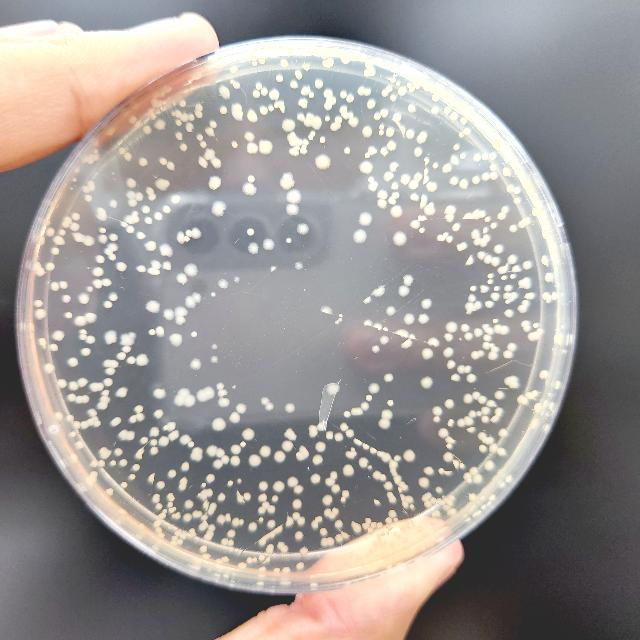colony: (286, 188, 302, 204), (315, 154, 331, 170), (212, 201, 226, 217), (393, 230, 407, 246), (146, 300, 160, 314), (282, 118, 296, 132), (358, 212, 372, 226), (353, 229, 367, 243), (232, 104, 244, 120), (218, 84, 230, 100), (185, 263, 198, 277), (244, 182, 256, 196), (209, 176, 221, 190), (160, 244, 172, 258), (260, 140, 272, 154), (280, 178, 294, 190), (143, 108, 157, 120), (287, 131, 299, 145), (359, 162, 373, 174), (390, 205, 402, 219), (372, 285, 386, 297), (242, 428, 254, 442), (196, 389, 208, 403), (320, 305, 336, 315), (392, 328, 408, 338), (506, 264, 522, 274), (326, 382, 339, 394), (286, 202, 298, 215), (212, 418, 225, 430), (282, 441, 296, 452), (65, 381, 79, 392), (105, 330, 116, 344), (176, 272, 188, 284), (170, 334, 182, 346), (190, 358, 202, 370), (263, 238, 275, 250), (144, 240, 156, 252), (155, 178, 167, 190), (204, 148, 216, 160), (246, 142, 258, 154), (246, 110, 258, 122), (154, 118, 166, 130), (84, 234, 96, 246), (423, 204, 435, 216), (445, 321, 457, 333), (421, 377, 433, 389), (403, 449, 415, 461), (312, 454, 324, 466), (273, 480, 285, 492), (284, 428, 296, 440), (249, 454, 261, 466), (184, 394, 196, 406), (137, 353, 149, 365), (85, 312, 97, 324), (34, 308, 46, 320), (312, 116, 322, 130), (504, 376, 518, 386), (216, 398, 230, 408), (177, 388, 191, 398), (136, 445, 146, 459), (120, 334, 134, 344), (186, 296, 197, 308), (163, 308, 174, 320), (104, 125, 116, 136), (417, 132, 428, 144), (402, 274, 413, 286), (398, 285, 409, 297), (427, 337, 439, 348), (422, 348, 433, 360), (368, 382, 380, 393), (274, 451, 286, 462), (203, 387, 214, 399), (175, 306, 188, 316), (52, 237, 66, 246), (401, 173, 412, 184), (248, 242, 258, 254), (150, 259, 162, 269), (198, 156, 208, 168), (210, 158, 222, 168), (269, 89, 279, 101), (276, 101, 286, 113), (72, 232, 84, 242), (116, 262, 128, 272), (362, 126, 372, 138), (445, 204, 457, 214), (404, 313, 414, 325), (401, 338, 413, 348), (482, 326, 494, 336), (498, 262, 508, 274), (477, 251, 489, 261), (470, 228, 480, 240), (518, 394, 528, 406), (378, 419, 390, 429), (344, 464, 354, 476), (322, 494, 332, 506), (260, 445, 270, 457), (230, 411, 240, 423), (174, 395, 184, 407), (180, 434, 192, 444), (158, 436, 170, 446), (100, 448, 112, 458), (115, 387, 127, 397), (154, 388, 166, 398), (44, 363, 56, 373), (74, 316, 86, 326), (53, 330, 65, 340), (146, 267, 160, 275), (420, 194, 428, 208), (285, 512, 293, 526), (298, 223, 308, 234), (427, 182, 438, 192), (377, 189, 388, 199), (418, 313, 429, 323), (381, 452, 392, 462), (419, 477, 429, 488), (338, 528, 349, 538), (78, 378, 89, 388), (459, 178, 468, 190), (524, 392, 536, 401), (237, 491, 245, 504), (39, 336, 47, 349), (285, 402, 295, 412), (176, 316, 186, 326), (134, 192, 144, 202), (125, 215, 135, 225), (245, 132, 255, 142), (205, 127, 215, 137), (142, 125, 152, 135), (192, 70, 202, 80), (301, 86, 311, 96), (348, 117, 358, 127), (367, 146, 377, 156), (386, 140, 396, 150), (408, 180, 418, 190), (389, 162, 399, 172), (368, 181, 378, 191), (384, 172, 394, 182), (442, 163, 452, 173), (398, 86, 408, 96), (386, 306, 396, 316), (422, 298, 432, 308), (443, 347, 453, 357), (506, 342, 516, 352), (466, 301, 476, 311), (522, 260, 532, 270), (507, 254, 517, 264), (494, 244, 504, 254), (490, 257, 500, 267), (494, 407, 504, 417), (498, 427, 508, 437), (497, 446, 507, 456), (484, 460, 494, 470), (472, 473, 482, 483), (443, 452, 453, 462), (438, 428, 448, 438), (432, 406, 442, 416), (481, 406, 491, 416), (464, 416, 474, 426), (382, 409, 392, 419), (421, 491, 431, 501), (316, 442, 326, 452), (310, 474, 320, 484), (334, 518, 344, 528), (292, 498, 302, 508), (288, 476, 298, 486), (298, 546, 308, 556), (273, 524, 283, 534), (230, 456, 240, 466), (207, 446, 217, 456), (231, 444, 241, 454), (218, 388, 228, 398), (154, 409, 164, 419), (117, 430, 127, 440), (136, 412, 146, 422), (111, 416, 121, 426), (68, 357, 78, 367), (109, 291, 119, 301), (79, 294, 89, 304), (61, 294, 71, 304), (50, 281, 60, 291), (93, 267, 103, 277), (359, 457, 368, 468), (220, 278, 228, 290), (176, 232, 184, 244), (193, 292, 201, 304), (288, 148, 300, 156), (451, 154, 459, 166), (462, 212, 474, 220), (466, 254, 474, 266), (444, 436, 456, 444), (34, 267, 46, 275), (413, 172, 422, 182), (378, 198, 387, 208), (446, 359, 456, 368), (383, 373, 393, 382), (466, 373, 476, 382), (499, 325, 508, 335), (463, 394, 472, 404), (483, 254, 492, 264), (538, 369, 548, 378), (469, 466, 478, 476), (444, 399, 454, 408), (296, 452, 306, 461), (184, 499, 193, 509), (207, 474, 216, 484), (213, 459, 223, 468), (237, 404, 246, 414), (108, 243, 119, 251), (150, 427, 158, 438), (84, 477, 92, 488), (399, 126, 406, 138), (203, 497, 209, 511), (449, 177, 458, 186), (217, 448, 226, 457), (77, 482, 86, 491), (264, 402, 274, 410), (211, 354, 219, 364), (156, 326, 164, 336), (192, 228, 200, 238), (162, 262, 172, 270), (137, 231, 147, 239), (127, 190, 135, 200), (128, 199, 138, 207), (128, 178, 136, 188), (138, 158, 148, 166), (283, 172, 293, 180), (70, 223, 80, 231), (296, 113, 306, 121), (279, 59, 289, 67), (326, 97, 336, 105), (315, 80, 323, 90), (386, 128, 394, 138), (380, 147, 388, 157), (414, 147, 422, 157), (410, 220, 420, 228), (410, 193, 420, 201), (503, 167, 511, 177), (492, 140, 500, 150), (364, 61, 374, 69), (362, 296, 372, 304), (372, 322, 382, 330), (444, 333, 454, 341), (464, 332, 474, 340), (457, 364, 465, 374), (471, 350, 479, 360), (488, 352, 498, 360), (493, 324, 501, 334), (474, 328, 482, 338), (482, 334, 492, 342), (494, 391, 504, 399), (486, 400, 496, 408), (484, 300, 494, 308), (504, 310, 514, 318), (522, 217, 532, 225), (532, 208, 542, 216), (516, 279, 524, 289), (524, 292, 534, 300), (545, 273, 553, 283), (534, 403, 542, 413), (530, 418, 538, 428), (486, 436, 494, 446), (479, 444, 487, 454), (490, 443, 498, 453), (468, 492, 476, 502), (452, 459, 460, 469), (466, 426, 476, 434), (340, 422, 348, 432), (334, 433, 344, 441), (424, 466, 434, 474), (393, 474, 401, 484), (389, 458, 397, 468), (372, 470, 380, 480), (448, 508, 458, 516), (326, 478, 336, 486), (317, 422, 325, 432), (352, 525, 362, 533), (294, 485, 304, 493), (260, 481, 268, 491), (326, 562, 336, 570), (217, 514, 225, 524), (192, 510, 202, 518), (218, 492, 226, 502), (182, 461, 190, 471), (200, 490, 208, 500), (220, 456, 230, 464), (168, 421, 176, 431), (148, 474, 156, 484), (73, 420, 81, 430), (134, 405, 144, 413), (98, 402, 108, 410), (54, 412, 62, 422), (58, 379, 66, 389), (90, 382, 98, 392), (81, 348, 91, 356), (34, 299, 44, 307), (60, 280, 68, 290), (34, 260, 42, 270), (93, 280, 103, 288), (103, 278, 113, 286), (89, 474, 97, 484), (117, 507, 127, 515), (323, 90, 332, 98), (393, 113, 402, 121), (452, 223, 461, 231), (474, 208, 480, 220), (379, 336, 388, 344), (452, 373, 461, 381), (503, 350, 512, 358), (478, 396, 487, 404), (542, 255, 548, 267), (478, 432, 487, 440), (353, 438, 362, 446), (383, 481, 392, 489), (332, 484, 341, 492), (105, 488, 113, 497), (115, 448, 124, 456), (76, 441, 85, 449), (70, 453, 78, 462), (81, 419, 89, 428), (188, 564, 200, 570), (97, 208, 107, 215), (298, 98, 308, 105), (90, 459, 100, 466), (95, 214, 106, 220), (261, 396, 269, 404), (295, 262, 303, 270), (154, 212, 162, 220), (172, 195, 180, 203), (145, 217, 153, 225), (142, 205, 150, 213), (146, 186, 154, 194), (167, 162, 175, 170), (126, 225, 134, 233), (110, 200, 118, 208), (82, 185, 90, 193), (124, 152, 132, 160), (219, 106, 227, 114), (195, 110, 203, 118), (260, 106, 268, 114), (252, 90, 260, 98), (260, 88, 268, 96), (134, 120, 142, 128), (174, 110, 182, 118), (180, 113, 188, 121), (186, 124, 194, 132), (92, 153, 100, 161), (110, 233, 118, 241), (99, 235, 107, 243), (72, 213, 80, 221), (96, 255, 104, 263), (64, 216, 72, 224), (306, 112, 314, 120), (304, 119, 312, 127), (330, 123, 338, 131), (334, 116, 342, 124), (346, 94, 354, 102), (367, 100, 375, 108), (380, 110, 388, 118), (340, 112, 348, 120), (406, 130, 414, 138), (391, 182, 399, 190), (388, 196, 396, 204), (450, 112, 458, 120), (408, 104, 416, 112), (472, 176, 480, 184), (490, 172, 498, 180), (473, 154, 481, 162), (460, 242, 468, 250), (498, 212, 506, 220), (512, 186, 520, 194), (506, 185, 514, 193), (341, 56, 349, 64), (372, 345, 380, 353), (461, 324, 469, 332), (464, 365, 472, 373), (482, 342, 490, 350), (472, 392, 480, 400), (521, 320, 529, 328), (474, 302, 482, 310), (468, 294, 476, 302), (481, 285, 489, 293), (491, 293, 499, 301), (504, 284, 512, 292), (518, 305, 526, 313), (482, 234, 490, 242), (473, 237, 481, 245), (518, 220, 526, 228), (491, 414, 499, 422), (457, 419, 465, 427), (468, 410, 476, 418), (361, 402, 369, 410), (346, 429, 354, 437), (369, 446, 377, 454), (389, 510, 397, 518), (424, 500, 432, 508), (341, 490, 349, 498), (346, 451, 354, 459), (326, 431, 334, 439), (309, 430, 317, 438), (362, 522, 370, 530), (335, 535, 343, 543), (319, 527, 327, 535), (320, 538, 328, 546), (292, 512, 300, 520), (295, 531, 303, 539), (259, 493, 267, 501), (262, 502, 270, 510), (258, 506, 266, 514), (268, 520, 276, 528), (432, 524, 440, 532), (199, 544, 207, 552), (227, 529, 235, 537), (249, 522, 257, 530), (232, 518, 240, 526), (201, 512, 209, 520), (184, 513, 192, 521), (262, 556, 270, 564), (175, 528, 183, 536), (157, 481, 165, 489), (168, 469, 176, 477), (190, 452, 198, 460), (196, 455, 204, 463), (150, 447, 158, 455), (140, 436, 148, 444), (180, 476, 188, 484), (120, 459, 128, 467), (98, 460, 106, 468), (93, 420, 101, 428), (99, 446, 107, 454), (82, 395, 90, 403), (68, 394, 76, 402), (66, 414, 74, 422), (104, 378, 112, 386), (106, 367, 114, 375), (128, 356, 136, 364), (111, 360, 119, 368), (103, 359, 111, 367), (118, 352, 126, 360), (87, 336, 95, 344), (50, 344, 58, 352), (104, 301, 112, 309), (46, 262, 54, 270), (46, 228, 54, 236), (444, 106, 451, 115), (363, 319, 372, 326), (136, 266, 146, 272), (81, 154, 87, 164), (358, 87, 364, 97), (522, 180, 528, 190), (320, 53, 330, 59), (328, 57, 334, 67), (542, 230, 548, 240), (528, 332, 534, 342), (542, 398, 548, 408), (357, 406, 363, 416), (404, 496, 414, 502), (442, 504, 452, 510), (328, 536, 334, 546), (201, 553, 211, 559), (225, 512, 231, 522), (192, 448, 202, 454), (100, 396, 110, 402), (122, 346, 132, 352), (28, 322, 34, 332), (233, 276, 240, 284), (248, 228, 255, 236), (248, 175, 255, 183), (163, 205, 170, 213), (149, 193, 157, 200), (159, 158, 167, 165), (132, 215, 140, 222), (210, 120, 217, 128), (180, 100, 187, 108), (175, 132, 182, 140), (255, 82, 262, 90), (165, 86, 172, 94), (339, 91, 346, 99), (374, 112, 381, 120), (489, 152, 496, 160), (479, 210, 486, 218), (432, 95, 440, 102), (479, 239, 486, 247), (509, 224, 516, 232), (558, 332, 562, 346), (464, 472, 471, 480), (344, 410, 351, 418), (362, 444, 370, 451), (324, 508, 331, 516), (243, 492, 250, 500), (179, 484, 187, 491), (132, 464, 140, 471), (105, 248, 114, 254), (418, 215, 427, 221), (443, 470, 452, 476), (509, 382, 518, 388), (448, 494, 457, 500), (128, 432, 134, 441), (63, 458, 69, 467), (108, 253, 115, 260), (52, 248, 59, 255), (150, 328, 156, 336), (122, 220, 128, 228), (86, 194, 92, 202), (164, 180, 170, 188), (180, 144, 188, 150), (232, 140, 238, 148), (195, 104, 203, 110), (189, 114, 195, 122), (230, 66, 238, 72), (130, 116, 136, 124), (74, 165, 80, 173), (100, 226, 106, 234), (62, 222, 70, 228), (300, 148, 308, 154), (290, 82, 298, 88), (304, 64, 310, 72), (258, 58, 266, 64), (250, 55, 258, 61), (153, 92, 161, 98), (334, 123, 342, 129), (324, 104, 332, 110), (339, 107, 347, 113), (344, 146, 350, 154), (423, 176, 429, 184), (392, 192, 400, 198), (464, 128, 470, 136), (432, 107, 438, 115), (482, 173, 488, 181), (490, 164, 496, 172), (437, 235, 445, 241), (456, 244, 462, 252), (502, 205, 508, 213), (412, 83, 420, 89), (370, 68, 376, 76), (364, 69, 370, 77), (482, 226, 488, 234), (409, 333, 417, 339), (478, 349, 484, 357), (491, 346, 499, 352), (522, 326, 530, 332), (522, 300, 530, 306), (522, 277, 530, 283), (524, 282, 532, 288), (542, 292, 548, 300), (531, 390, 537, 398), (482, 436, 488, 444), (432, 416, 440, 422), (481, 416, 489, 422), (351, 408, 357, 416), (388, 496, 396, 502), (402, 500, 408, 508), (434, 510, 440, 518), (446, 499, 454, 505), (487, 494, 495, 500), (464, 516, 472, 522), (505, 474, 511, 482), (330, 472, 338, 478), (310, 424, 316, 432), (332, 506, 338, 514), (328, 512, 336, 518), (351, 520, 359, 526), (312, 520, 318, 528), (297, 518, 305, 524), (272, 494, 278, 502), (267, 506, 275, 512), (277, 542, 285, 548), (265, 548, 273, 554), (296, 562, 304, 568), (282, 567, 290, 573), (404, 521, 410, 529), (346, 552, 354, 558), (355, 554, 363, 560), (238, 562, 246, 568), (222, 556, 230, 562), (215, 558, 223, 564), (220, 538, 228, 544), (269, 530, 275, 538), (258, 540, 266, 546), (208, 524, 216, 530), (206, 530, 214, 536), (204, 534, 212, 540), (158, 512, 166, 518), (203, 519, 209, 527), (258, 566, 266, 572), (170, 540, 178, 546), (217, 383, 225, 389), (169, 433, 175, 441), (173, 430, 179, 438), (210, 502, 218, 508), (158, 532, 166, 538), (156, 526, 162, 534), (154, 520, 160, 528), (152, 545, 160, 551), (88, 418, 94, 426), (92, 415, 100, 421), (130, 415, 136, 423), (91, 410, 99, 416), (102, 390, 110, 396), (76, 395, 82, 403), (98, 382, 104, 390), (80, 334, 88, 340), (128, 332, 136, 338), (40, 236, 46, 244), (135, 534, 143, 540), (116, 518, 122, 526), (186, 230, 192, 237), (88, 180, 94, 187), (118, 148, 125, 154), (233, 82, 240, 88), (365, 88, 371, 95), (446, 235, 452, 242), (322, 61, 328, 68), (504, 293, 511, 299), (394, 455, 401, 461), (374, 498, 381, 504), (400, 494, 406, 501), (228, 540, 235, 546), (200, 524, 207, 530), (445, 214, 455, 218), (554, 333, 558, 343), (280, 581, 290, 585), (271, 266, 277, 272), (212, 344, 218, 350), (286, 237, 292, 243), (184, 236, 190, 242), (132, 210, 138, 216), (89, 186, 95, 192), (197, 134, 203, 140), (176, 120, 182, 126), (268, 105, 274, 111), (276, 76, 282, 82), (87, 158, 93, 164), (88, 153, 94, 159), (60, 230, 66, 236), (301, 104, 307, 110), (295, 70, 301, 76), (152, 102, 158, 108), (303, 138, 309, 144), (319, 137, 325, 143), (324, 116, 330, 122), (378, 130, 384, 136), (348, 113, 354, 119), (364, 152, 370, 158), (432, 163, 438, 169), (460, 153, 466, 159), (453, 144, 459, 150), (458, 132, 464, 138), (460, 118, 466, 124), (482, 154, 488, 160), (443, 232, 449, 238), (484, 216, 490, 222), (490, 223, 496, 229), (514, 198, 520, 204), (423, 86, 429, 92), (409, 86, 415, 92), (390, 95, 396, 101), (386, 86, 392, 92), (382, 90, 388, 96), (388, 78, 397, 82), (408, 76, 414, 82), (366, 395, 372, 401), (387, 400, 393, 406), (470, 286, 476, 292), (512, 292, 518, 298), (546, 296, 552, 302), (537, 328, 543, 334), (466, 478, 472, 484), (438, 468, 444, 474), (446, 443, 452, 449), (448, 418, 454, 424), (476, 410, 482, 416), (436, 487, 442, 493), (402, 484, 408, 490), (390, 468, 396, 474), (380, 474, 386, 480), (386, 518, 392, 524), (430, 497, 436, 503), (436, 498, 442, 504), (440, 500, 446, 506), (476, 510, 482, 516), (472, 511, 478, 517), (352, 450, 358, 456), (377, 522, 383, 528), (371, 522, 377, 528), (365, 517, 371, 523), (368, 527, 374, 533), (282, 546, 288, 552), (300, 446, 306, 452), (274, 567, 280, 573), (392, 530, 398, 536), (398, 525, 404, 531), (417, 526, 423, 532), (422, 532, 428, 538), (368, 548, 374, 554), (371, 538, 377, 544), (380, 540, 386, 546), (386, 564, 392, 570), (247, 557, 253, 563), (252, 556, 258, 562), (190, 532, 196, 538), (162, 508, 168, 514), (181, 533, 187, 539), (168, 524, 174, 530), (172, 536, 178, 542), (177, 539, 183, 545), (156, 503, 162, 509), (167, 493, 173, 499), (169, 496, 175, 502), (240, 441, 246, 447), (188, 441, 194, 447), (151, 439, 157, 445), (208, 509, 214, 515), (139, 523, 145, 529), (122, 482, 128, 488), (130, 474, 136, 480), (110, 460, 116, 466), (92, 471, 98, 477), (88, 408, 94, 414), (66, 312, 72, 318), (87, 286, 93, 292), (202, 140, 206, 148), (150, 98, 158, 102), (298, 138, 302, 146), (424, 158, 428, 166), (424, 168, 428, 176), (446, 219, 454, 223), (481, 324, 489, 328), (552, 292, 556, 300), (534, 332, 538, 340), (555, 380, 559, 388), (550, 402, 554, 410), (377, 452, 385, 456), (397, 482, 405, 486), (500, 480, 504, 488), (304, 450, 308, 458), (410, 520, 414, 528), (340, 556, 348, 560), (310, 582, 318, 586), (310, 574, 318, 578), (259, 536, 267, 540), (208, 488, 212, 496), (208, 506, 216, 510), (257, 582, 265, 586), (429, 520, 436, 524), (223, 574, 230, 578), (212, 292, 216, 298), (338, 317, 344, 321), (191, 332, 197, 336), (73, 176, 77, 182), (230, 80, 236, 84), (94, 148, 98, 154), (302, 144, 306, 150), (308, 94, 314, 98), (296, 74, 302, 78), (252, 62, 258, 66), (160, 92, 164, 98), (158, 100, 162, 106), (310, 132, 316, 136), (308, 136, 314, 140), (380, 124, 384, 130), (368, 178, 374, 182), (428, 202, 434, 206), (407, 82, 411, 88), (382, 327, 388, 331), (534, 322, 538, 328), (466, 310, 472, 314), (504, 300, 510, 304), (494, 286, 498, 292), (510, 274, 514, 280), (508, 298, 514, 302), (460, 462, 464, 468), (398, 486, 402, 492), (392, 472, 398, 476), (368, 464, 372, 470), (388, 492, 392, 498), (487, 500, 491, 506), (482, 503, 486, 509), (340, 497, 346, 501), (314, 516, 318, 522), (258, 517, 264, 521), (268, 544, 274, 548), (402, 538, 408, 542), (403, 526, 407, 532), (364, 552, 370, 556), (374, 541, 378, 547), (389, 543, 395, 547), (376, 533, 382, 537), (343, 566, 349, 570), (189, 528, 195, 532), (260, 554, 264, 560), (228, 480, 232, 486), (168, 508, 174, 512), (176, 512, 180, 518), (154, 494, 160, 498), (164, 424, 168, 430), (70, 432, 76, 436), (257, 574, 267, 576), (335, 320, 339, 324), (232, 385, 236, 389), (274, 104, 278, 108), (171, 112, 175, 116), (296, 146, 300, 150), (288, 52, 292, 56), (420, 228, 424, 232), (396, 82, 400, 86), (490, 343, 494, 347), (493, 319, 497, 323), (488, 280, 492, 284), (488, 274, 492, 278), (501, 276, 505, 280), (496, 412, 500, 416), (448, 422, 452, 426), (394, 518, 398, 522), (410, 504, 414, 508), (444, 498, 448, 502), (432, 513, 436, 517), (351, 447, 355, 451), (318, 516, 322, 520), (388, 526, 392, 530), (386, 523, 390, 527), (398, 534, 402, 538), (374, 546, 378, 550), (378, 540, 382, 544), (377, 537, 381, 541), (240, 520, 244, 524), (266, 534, 270, 538), (172, 506, 176, 510), (202, 483, 206, 487), (238, 478, 242, 482), (168, 502, 172, 506), (158, 520, 162, 524), (230, 547, 234, 551), (82, 330, 86, 334), (214, 574, 222, 576), (207, 568, 211, 572), (70, 187, 74, 190), (172, 514, 175, 518), (230, 580, 236, 582), (340, 314, 342, 318), (442, 494, 444, 498), (386, 530, 388, 534), (383, 531, 385, 535), (381, 531, 383, 535), (198, 493, 200, 497), (368, 475, 369, 477)
